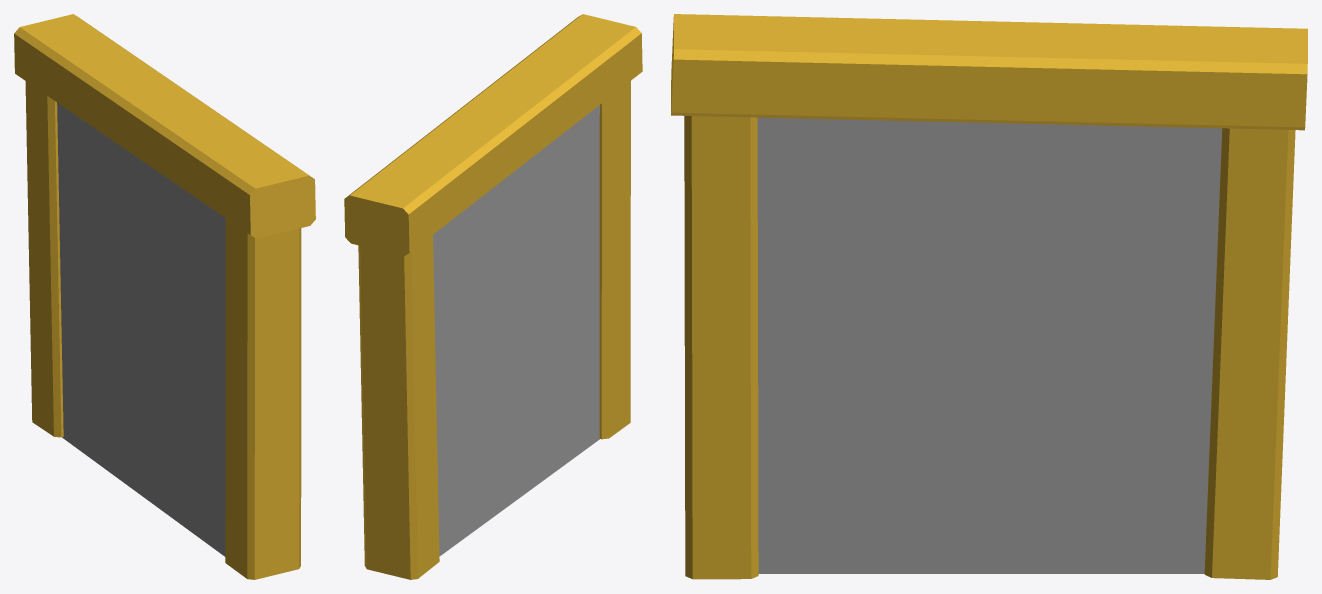
The model's file is W2 wallNonbreak.fbx.
3 renders of one model, left to right at view 1: azimuth 30°, elevation 25°; view 2: azimuth 150°, elevation 25°; view 3: azimuth 270°, elevation 25°, orthographic. The views are drawn at different scales.
Visible parts, largest first — view 1: pCube355, pCube361, pCube360, pCube356; view 2: pCube355, pCube361, pCube356, pCube360; view 3: pCube355, pCube361, pCube360, pCube356.
Part boxes in pixels (left/top/right/bottom): pCube355: left=57, top=102, right=225, bottom=556; pCube361: left=14, top=14, right=315, bottom=238; pCube360: left=225, top=218, right=301, bottom=579; pCube356: left=25, top=81, right=63, bottom=437; pCube355: left=433, top=105, right=599, bottom=556; pCube361: left=344, top=14, right=642, bottom=256; pCube356: left=358, top=235, right=439, bottom=579; pCube360: left=599, top=81, right=630, bottom=439; pCube355: left=757, top=117, right=1222, bottom=573; pCube361: left=671, top=14, right=1307, bottom=130; pCube360: left=684, top=116, right=758, bottom=579; pCube356: left=1204, top=128, right=1295, bottom=579.
Size of the model in its own units: 67.66 by 393 by 426.
